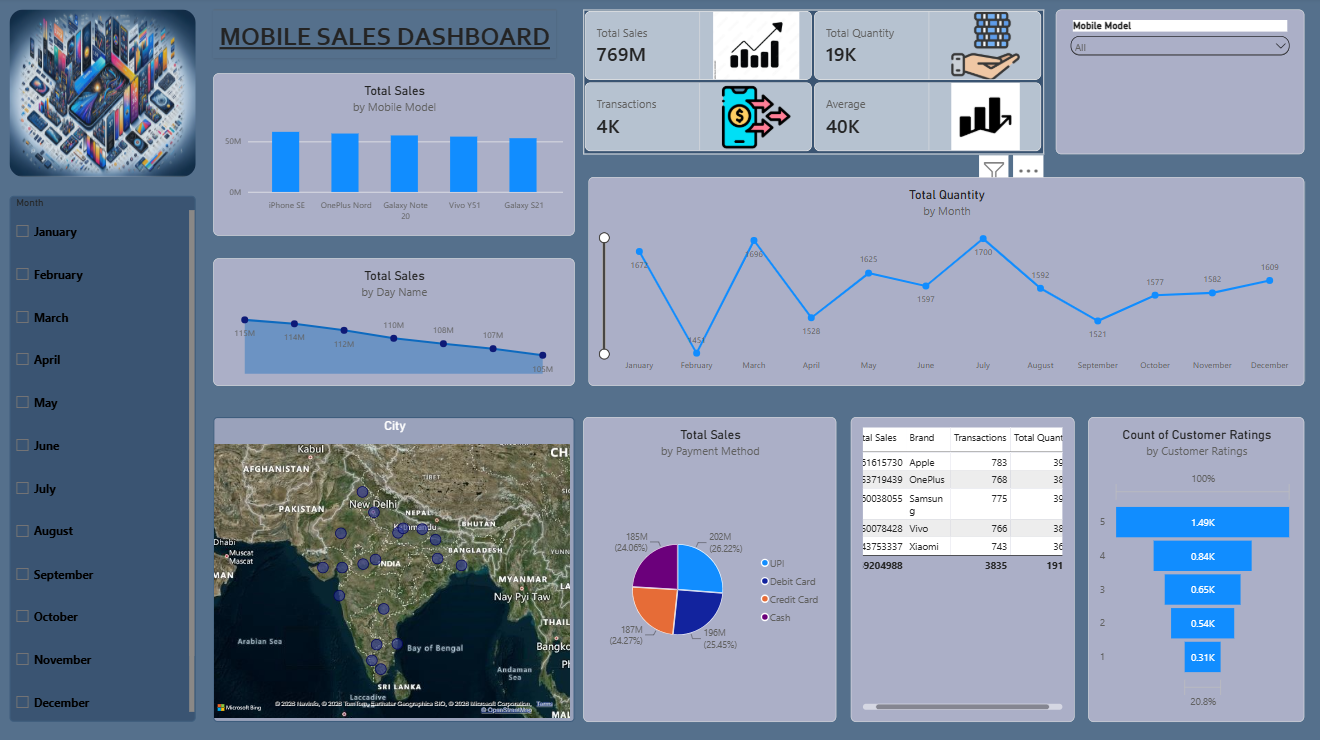

This screenshot's page, from the dashboard's own definition file:
{"tool":"powerbi","page":{"name":"Page 1","canvas":[1920,1080],"ordinal":0},"visuals":[{"type":"slicer","fields":{"Values":["Sheet1.Date.Variation.Date Hierarchy.Month"]},"box":[18.1,287.7,269.6,761.9],"z":0},{"type":"image","box":[18.1,18.1,269.6,242.5],"z":1000},{"type":"cardVisual","fields":{"Data":["Sales Data.Total Sales","Sales Data.Total Quantity","Sales Data.Transactions","Sales Data.Average"]},"box":[848.7,18.1,667.8,209.9],"z":2000},{"type":"map","fields":{"Category":["Sales Data.City"]},"box":[313.1,608,523,441.6],"z":3000},{"type":"lineChart","fields":{"Category":["Sales Data.Date.Variation.Date Hierarchy.Month"],"Y":["Sales Data.Total Quantity"]},"box":[856,260.6,1036.9,302.2],"z":4000},{"type":"clusteredColumnChart","fields":{"Category":["Sales Data.Mobile Model"],"Y":["Sales Data.Total Sales"]},"box":[313.3,110,523.3,235],"z":5000},{"type":"pieChart","fields":{"Category":["Sales Data.Payment Method"],"Y":["Sales Data.Total Sales"]},"box":[848.7,608,366.7,441.7],"z":6000},{"type":"funnel","fields":{"Category":["Sales Data.Customer Ratings"],"Y":["CountNonNull(Sales Data.Customer Ratings)"]},"box":[1579.8,608,313.1,441.6],"z":7000},{"type":"areaChart","fields":{"Category":["Sales Data.Day Name"],"Y":["Sales Data.Total Sales"]},"box":[313.1,378.2,523,184.6],"z":8000},{"type":"tableEx","fields":{"Values":["Sales Data.Total Sales","Sales Data.Brand","Sales Data.Transactions","Sales Data.Total Quantity"]},"box":[1236,608,323.9,441.6],"z":9000},{"type":"slicer","fields":{"Values":["Sales Data.Mobile Model"]},"box":[1532.8,18.1,360.1,209.9],"z":10000},{"type":"textbox","box":[313.3,18.3,496.7,70],"z":10001}]}

Visuals, with their boxes in screenshot pixels (x1, y1, x2, y2), scaled from the page's 1920x1080 canvas onto the 1320x740 screenshot:
slicer - Sheet1.Date.Variation.Date Hierarchy.Month: 12 197 198 719
image: 12 12 198 179
cardVisual - Sales Data.Total Sales x Sales Data.Total Quantity: 583 12 1043 156
map - Sales Data.City: 215 417 575 719
lineChart - Sales Data.Date.Variation.Date Hierarchy.Month x Sales Data.Total Quantity: 588 179 1301 386
clusteredColumnChart - Sales Data.Mobile Model x Sales Data.Total Sales: 215 75 575 236
pieChart - Sales Data.Payment Method x Sales Data.Total Sales: 583 417 836 719
funnel - Sales Data.Customer Ratings x CountNonNull(Sales Data.Customer Ratings): 1086 417 1301 719
areaChart - Sales Data.Day Name x Sales Data.Total Sales: 215 259 575 386
tableEx - Sales Data.Total Sales x Sales Data.Brand: 850 417 1072 719
slicer - Sales Data.Mobile Model: 1054 12 1301 156
textbox: 215 13 557 61
